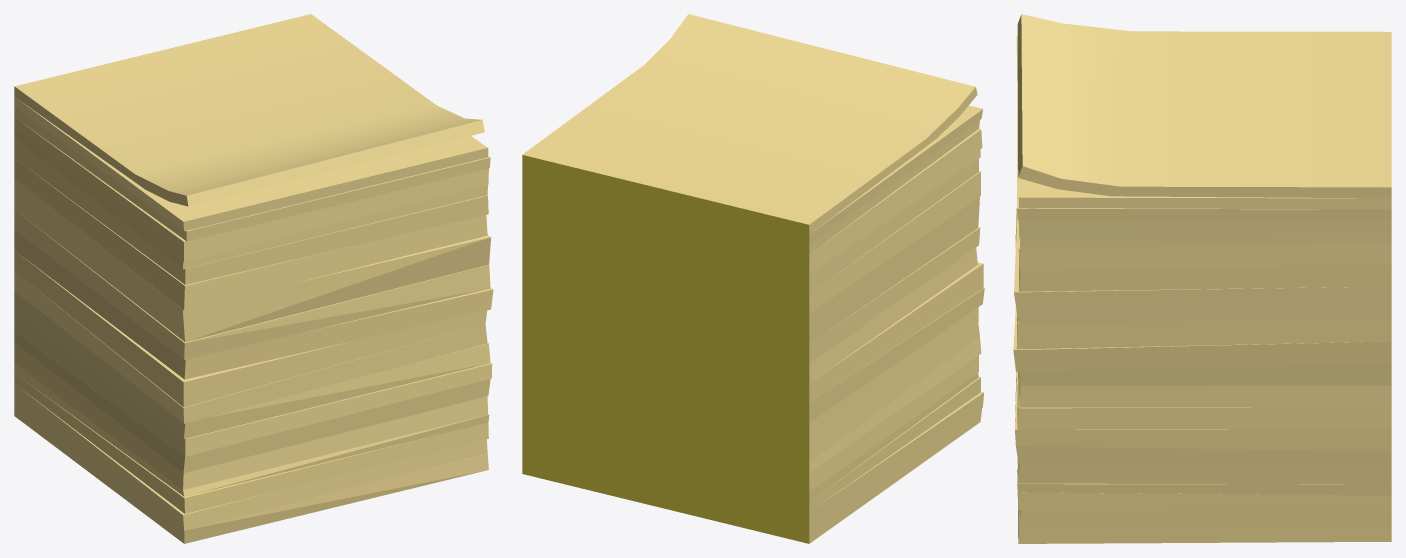
Rendered from bloco_notas_amarelo_pacote.glb.
3 renders of one model, left to right at view 1: azimuth 30°, elevation 25°; view 2: azimuth 150°, elevation 25°; view 3: azimuth 270°, elevation 25°, orthographic. The views are drawn at different scales.
Parts seen in each view (by area): view 1: bloco_notas_amarelo_pacote; view 2: bloco_notas_amarelo_pacote; view 3: bloco_notas_amarelo_pacote.
Part boxes in pixels (<box>): bloco_notas_amarelo_pacote: <box>14,14,493,543</box>; bloco_notas_amarelo_pacote: <box>522,14,984,543</box>; bloco_notas_amarelo_pacote: <box>1013,14,1391,543</box>.
Size of the model in its own units: 0.0612 by 0.0661 by 0.0603.
1 material, 1 textured.
